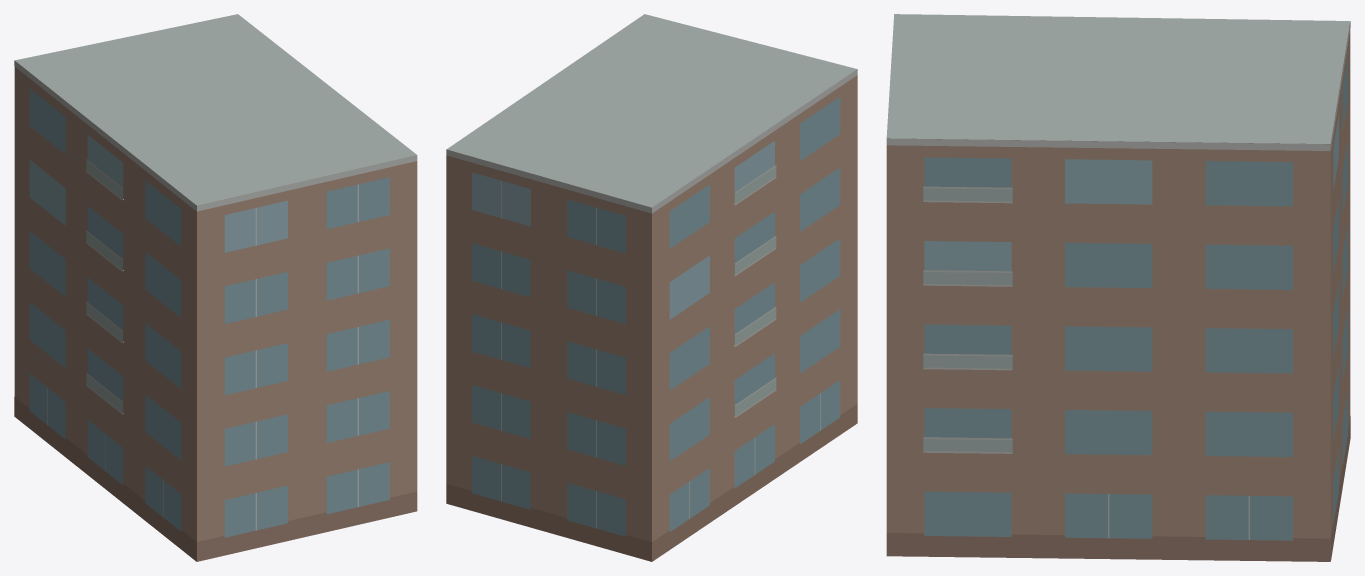
The model's file is survey-upis-32837783.glb.
The picture shows the model from 3 angles, left to right: view 1: azimuth 30°, elevation 25°; view 2: azimuth 150°, elevation 25°; view 3: azimuth 270°, elevation 25°; orthographic projection. The views are drawn at different scales.
Parts seen in each view (by area): view 1: survey-upis-32837783.tmp; view 2: survey-upis-32837783.tmp; view 3: survey-upis-32837783.tmp.
Part boxes in pixels (<box>): survey-upis-32837783.tmp: <box>14,14,417,561</box>; survey-upis-32837783.tmp: <box>446,14,857,561</box>; survey-upis-32837783.tmp: <box>886,14,1350,561</box>.
Bounding box in the file's own units: 9.79 × 14.65 × 14.75.
